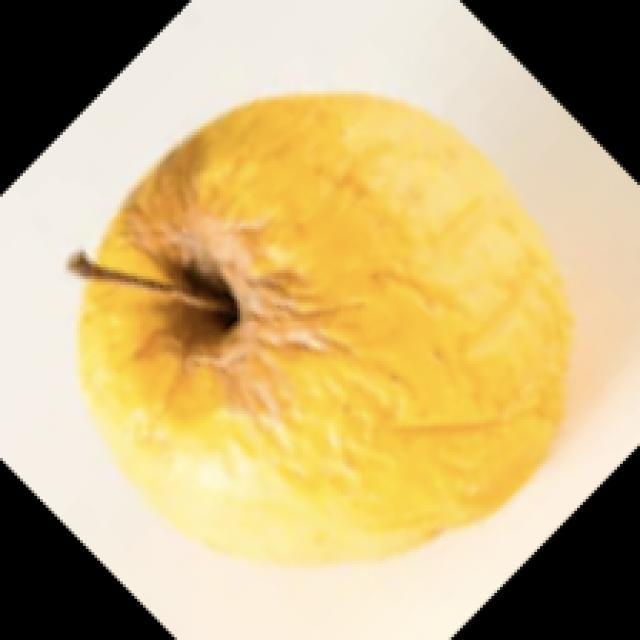Rotten: (68, 101, 567, 556)
